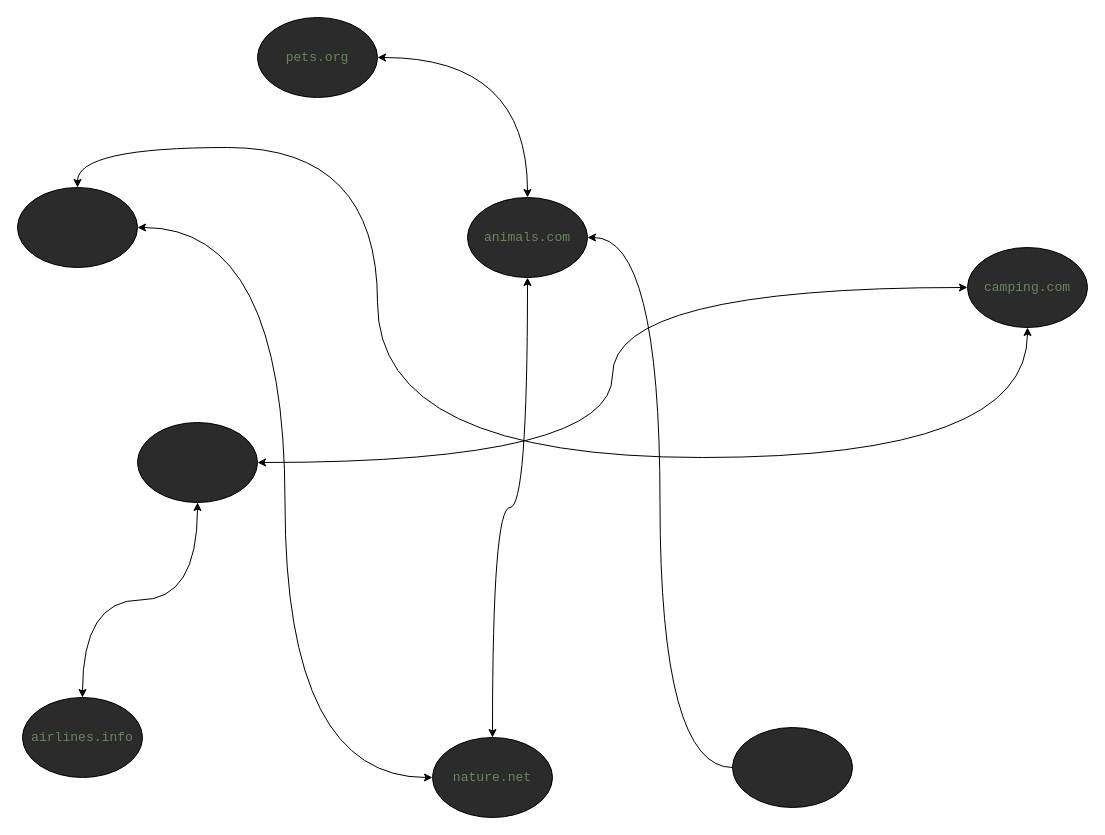
Image size: 1105x835. Some labels were removed from this diagram. Here are the shapes that lost their labels. From the top down, the centre of each, then its label:
[77,227]: hiking.info
[197,462]: travel.net
[792,767]: recipes.com
